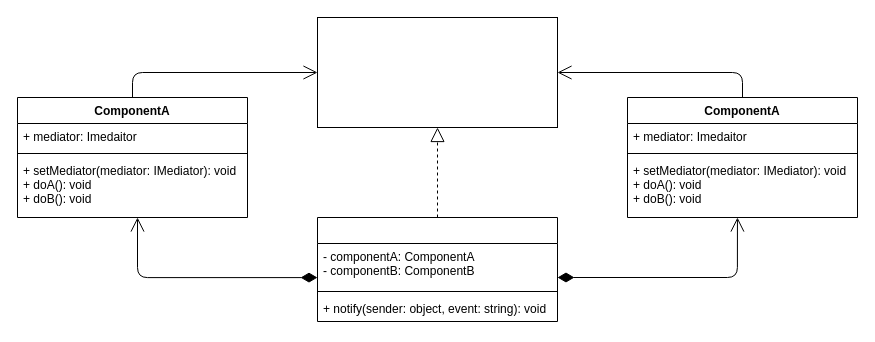
Image size: 875x342. Some labels were removed from this diagram. The shapes that lost their labels are listed below. From the top down, each one's box as (x1, y1, x2, y2) in pixels, then its label:
(316, 16, 558, 128): <<Interface>> IMediator + notify(sender: object, event: string): void
(316, 216, 558, 322): ConcreteMediator
